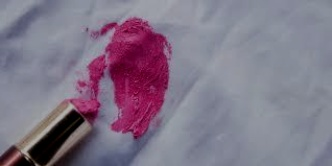lipstick: (93, 20, 177, 140)
